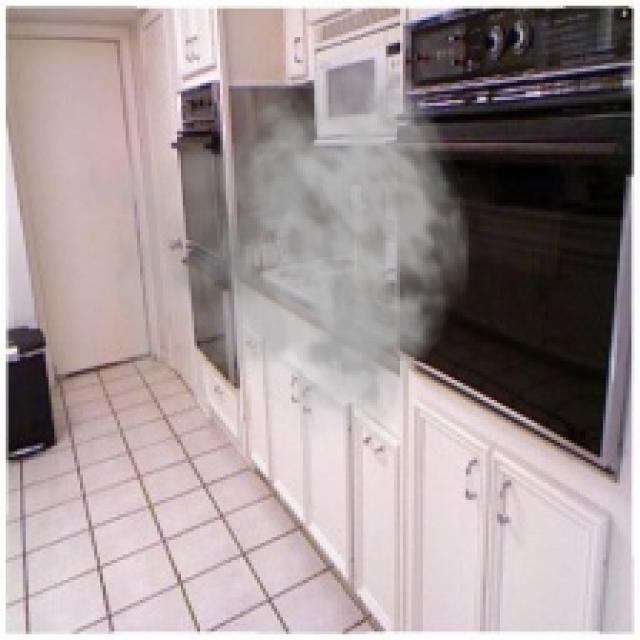Smoke: (77, 43, 472, 463)
